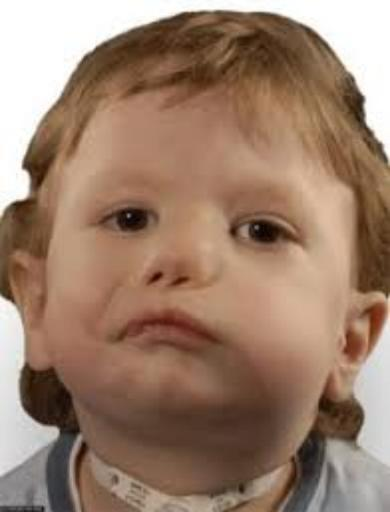left_eye: (230, 219, 298, 251)
left_lip_corner: (198, 319, 230, 357)
right_eye: (96, 206, 158, 237)
right_lip_corner: (101, 317, 135, 352)
